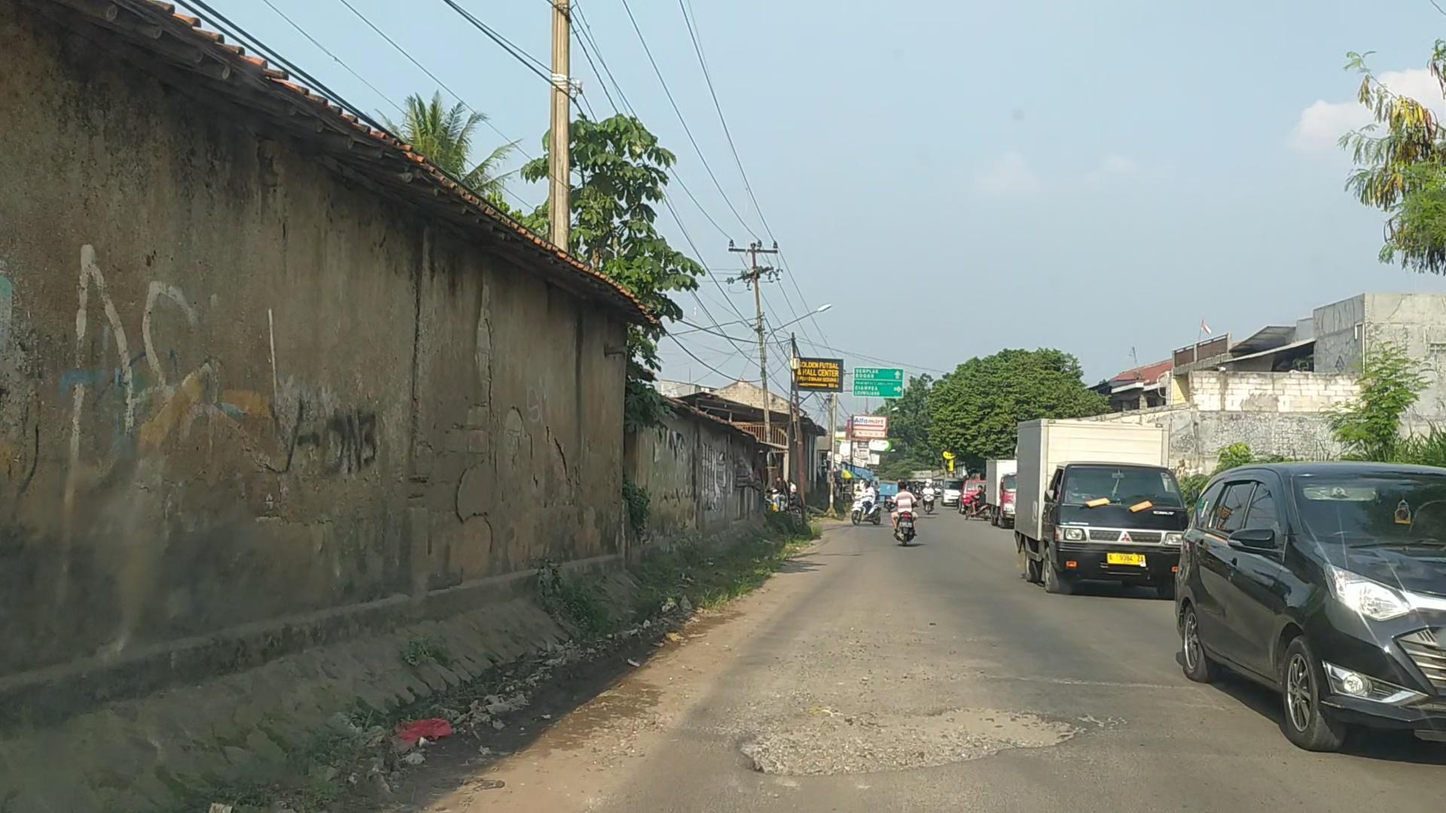pothole: (732, 700, 1116, 781)
